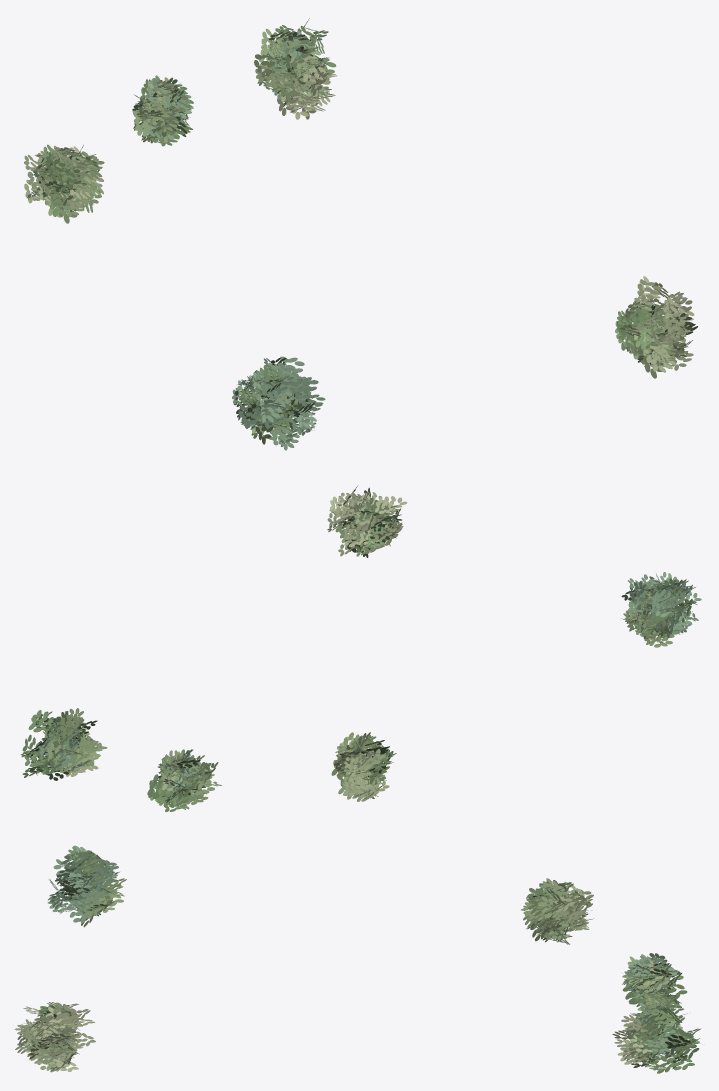
Rendered from campus-tree-0_-3-far.glb.
3 views of the same model, one above another, from view 1: azimuth 30°, elevation 25°; view 2: azimuth 150°, elevation 25°; view 3: azimuth 270°, elevation 25° (orthographic). The views are drawn at different scales.
Visible parts, largest first — view 1: Campus leaf canopy; view 2: Campus leaf canopy; view 3: Campus leaf canopy.
Part boxes in pixels (x1,y1,x2,y2): Campus leaf canopy: (24,18,697,450); Campus leaf canopy: (20,486,701,811); Campus leaf canopy: (14,845,700,1073).
Bounding box in the file's own units: 32.47 × 6.57 × 51.5.
Materials: 1 (1 with a texture image).
